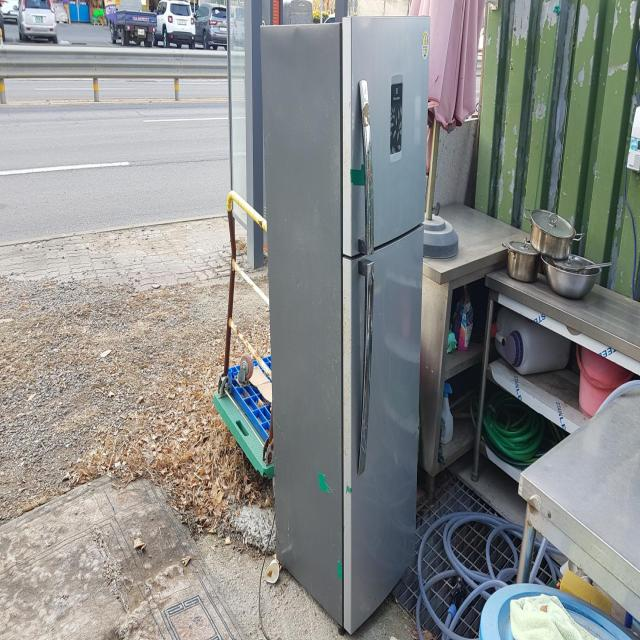refrigerator: (260, 14, 431, 636)
